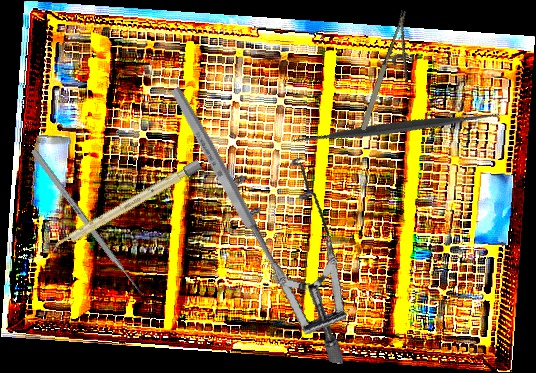Needle Holder: (356, 9, 431, 139)
Pusher: (30, 148, 147, 301)
Scalpel Handle: (49, 159, 203, 254)
Spatula Surgical: (285, 17, 508, 239)
Speculum: (192, 143, 386, 365)
Surgical Spoon: (168, 85, 289, 286)
